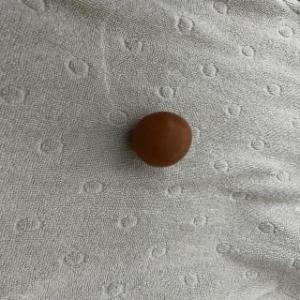egg: (130, 110, 195, 169)
